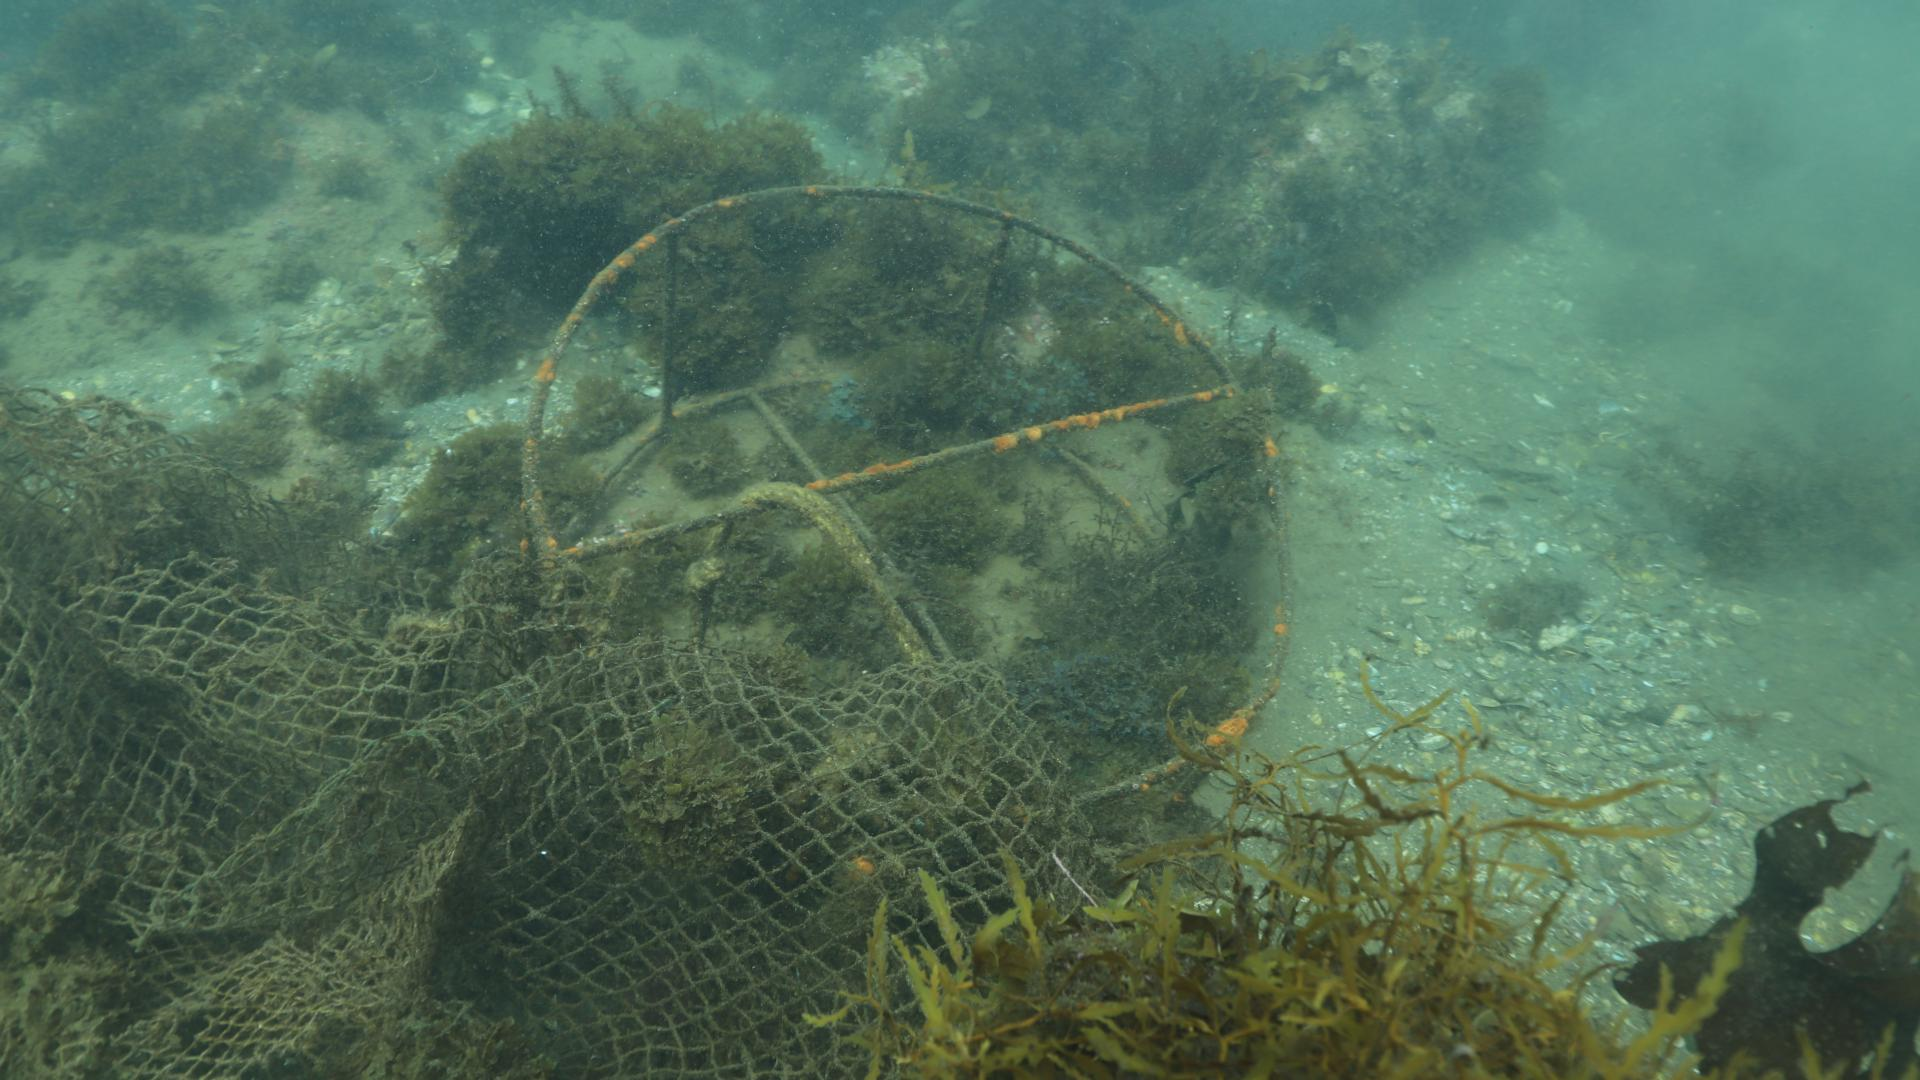bundle of ropes: (679, 479, 934, 665)
fish net: (0, 385, 1100, 1080)
